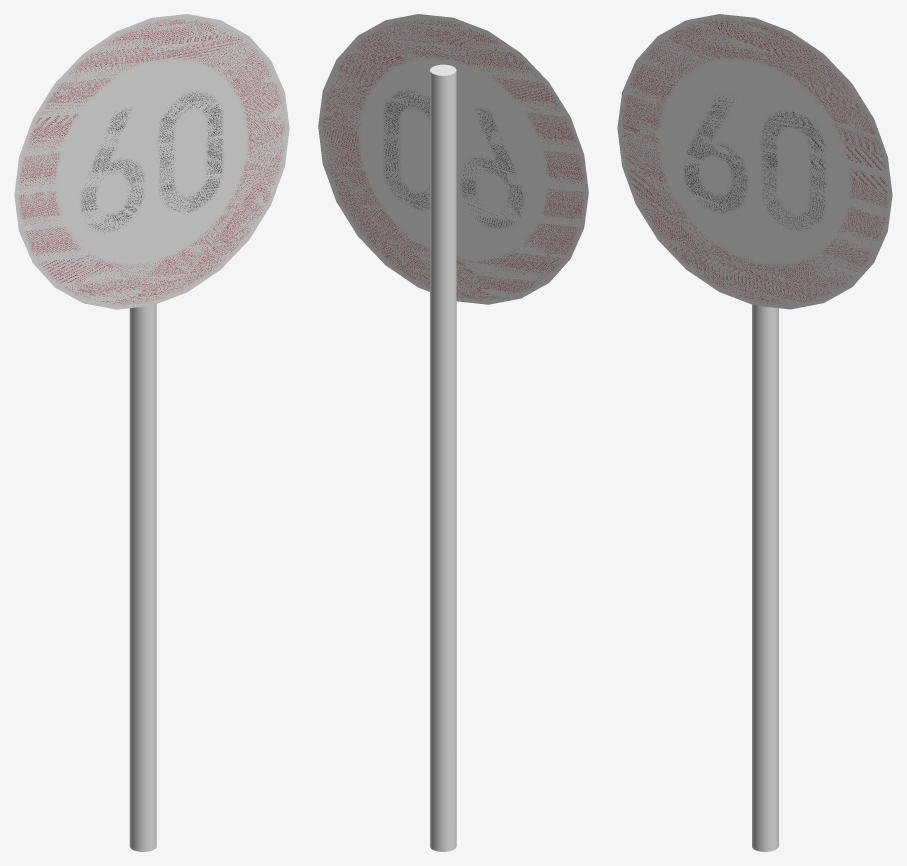
3 renders of one model, left to right at view 1: azimuth 30°, elevation 25°; view 2: azimuth 150°, elevation 25°; view 3: azimuth 330°, elevation 25°, orthographic.
Visible parts, largest first — view 1: SketchUp (×2); view 2: SketchUp (×2); view 3: SketchUp (×2).
Part boxes in pixels (x1,y1,x2,y2): SketchUp (×2): [14, 14, 289, 851]; SketchUp (×2): [318, 14, 588, 851]; SketchUp (×2): [617, 14, 892, 851].
Size of the model in its own units: 74.02 by 7.6 by 215.
Materials: 2 (1 with a texture image).
